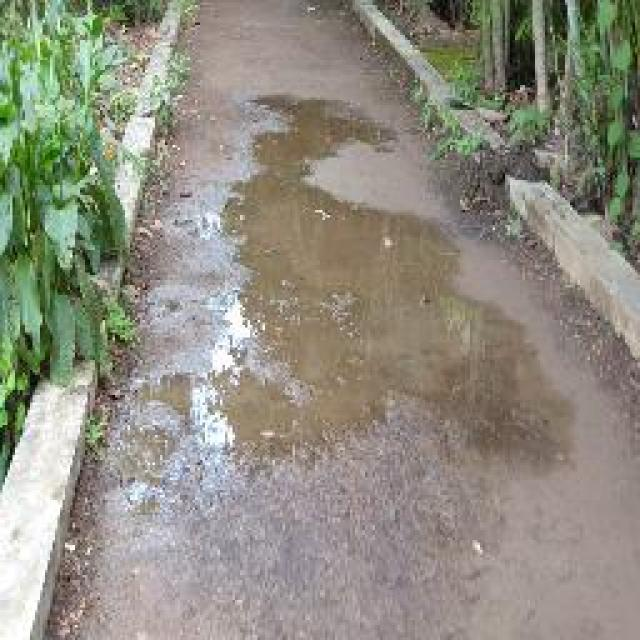puddle: (133, 94, 567, 482)
